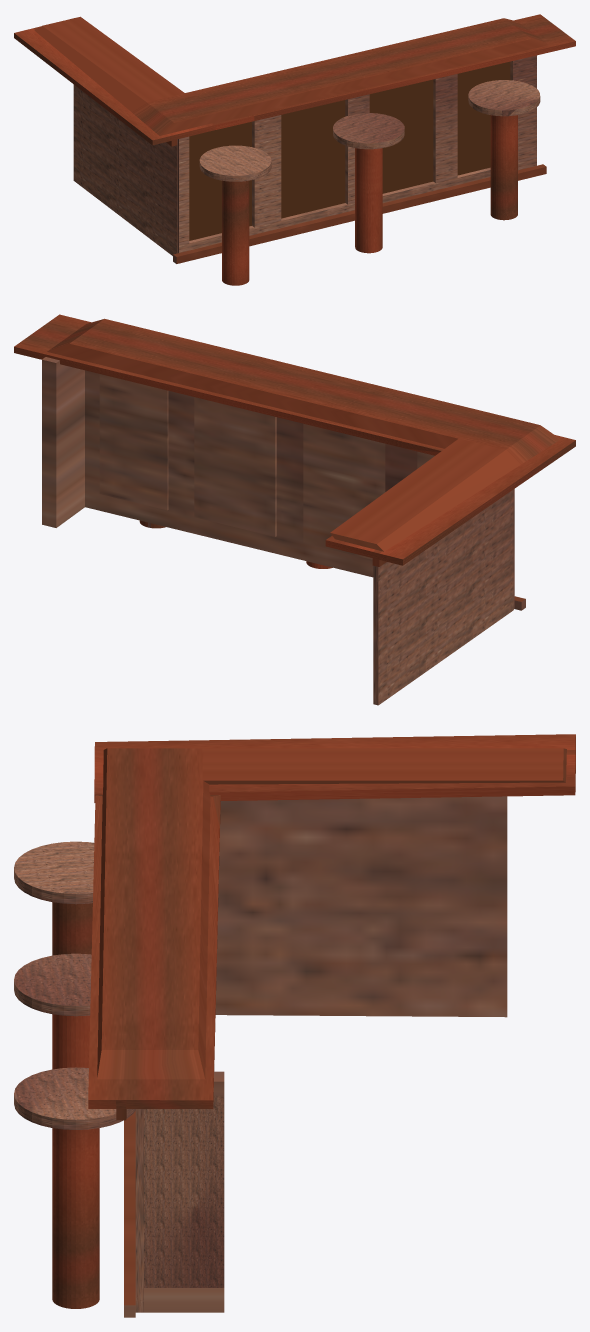
The model's file is btab.obj.
3 renders of one model, top to bottom at view 1: azimuth 30°, elevation 25°; view 2: azimuth 150°, elevation 25°; view 3: azimuth 270°, elevation 25°, orthographic. The views are drawn at different scales.
Parts seen in each view (by area): view 1: Cube_Cube.001, Cube_Cube.003, Cube_Cube.002; view 2: Cube_Cube.001, Cube_Cube.003, Cube_Cube.002; view 3: Cube_Cube.001, Cube_Cube.003.
Part boxes in pixels (left/top/right/bottom): Cube_Cube.001: left=14, top=27, right=546, bottom=285; Cube_Cube.003: left=14, top=14, right=575, bottom=140; Cube_Cube.002: left=73, top=55, right=536, bottom=255; Cube_Cube.001: left=42, top=357, right=575, bottom=705; Cube_Cube.003: left=14, top=314, right=575, bottom=559; Cube_Cube.002: left=378, top=489, right=513, bottom=705; Cube_Cube.001: left=14, top=736, right=575, bottom=1317; Cube_Cube.003: left=88, top=734, right=575, bottom=1108.
Bounding box in the file's own units: 10.04 × 3.71 × 6.72.
